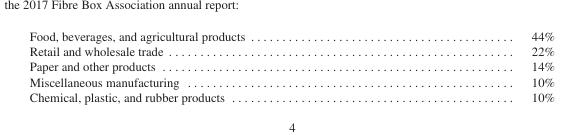table: (28, 28, 553, 103)
table column: (28, 28, 387, 103), (387, 28, 553, 103)
table row: (28, 28, 553, 43), (28, 43, 553, 58), (28, 58, 553, 73), (28, 73, 553, 88), (28, 88, 553, 103)
